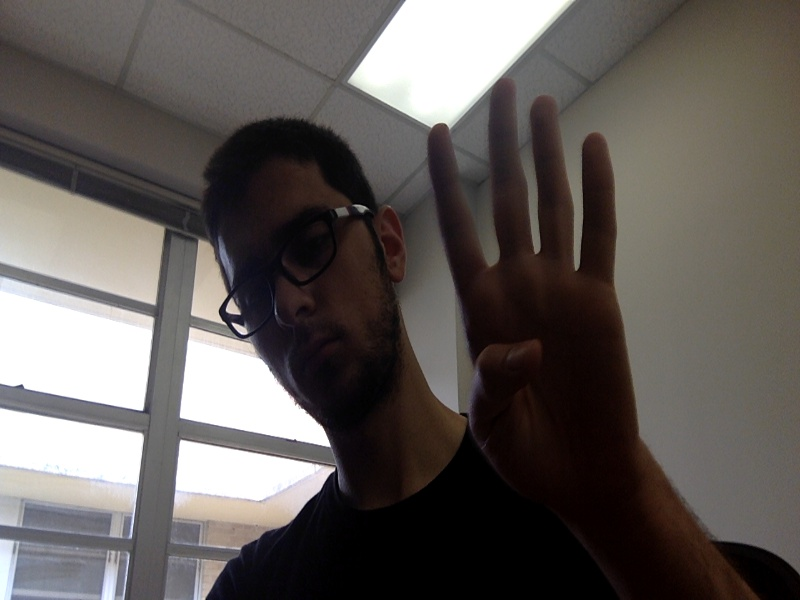5-hand: (427, 76, 644, 476)
